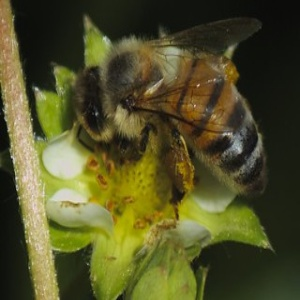bee: (73, 18, 273, 218)
